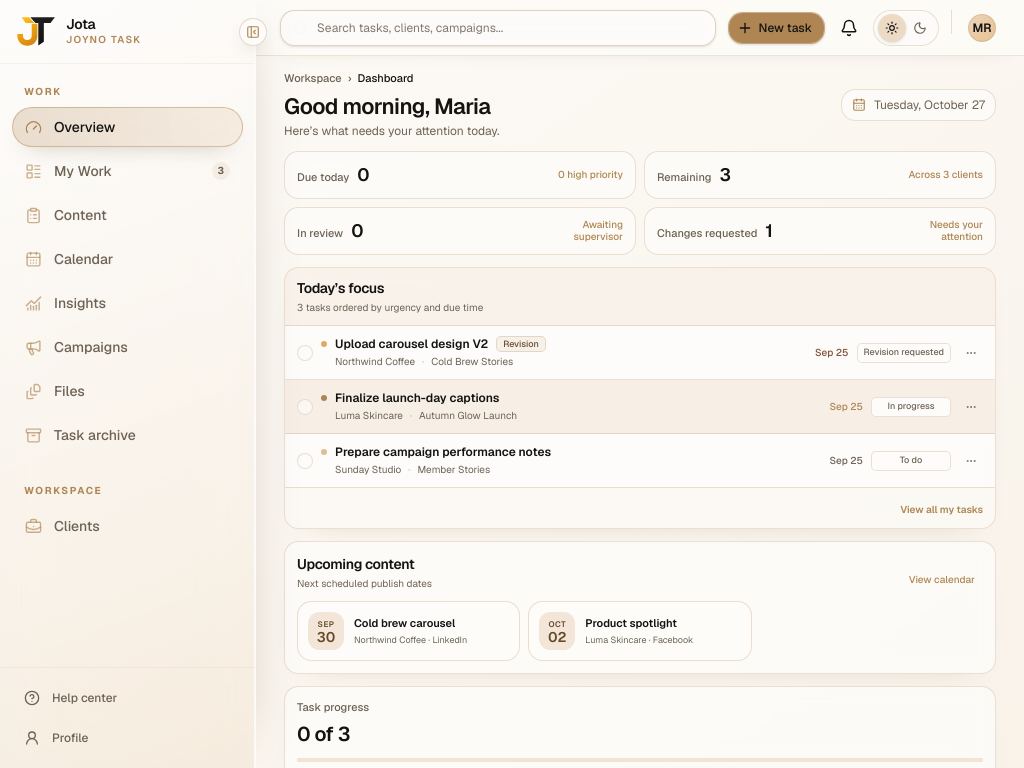
Test case: Account Manager dashboard › labels task actions distinctly and does not show a duplicate submission shortcut
The width and height of the screenshot is (1024, 768).
Click the button named "More options for Finalize launch-day captions" at point(971, 407), box [959,395,983,419]
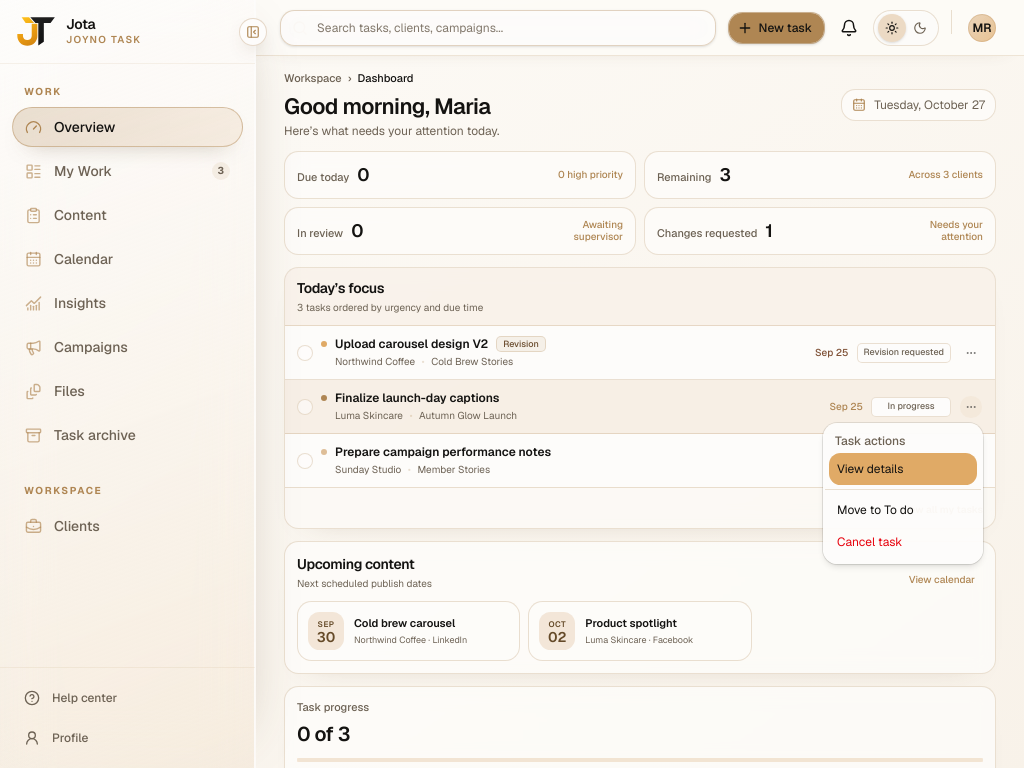
Check: the menu item "Move to To do" is shown, box [837,502,914,518]
Check: the menu item "Cancel task" is shown, box [837,534,902,550]
